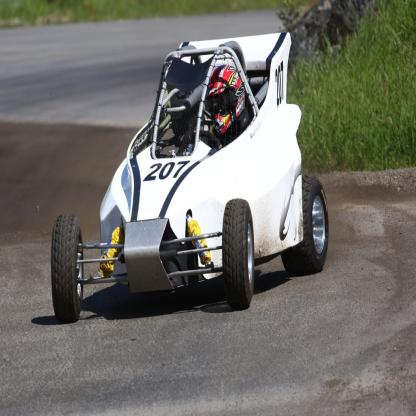Helmet: (208, 61, 248, 140)
